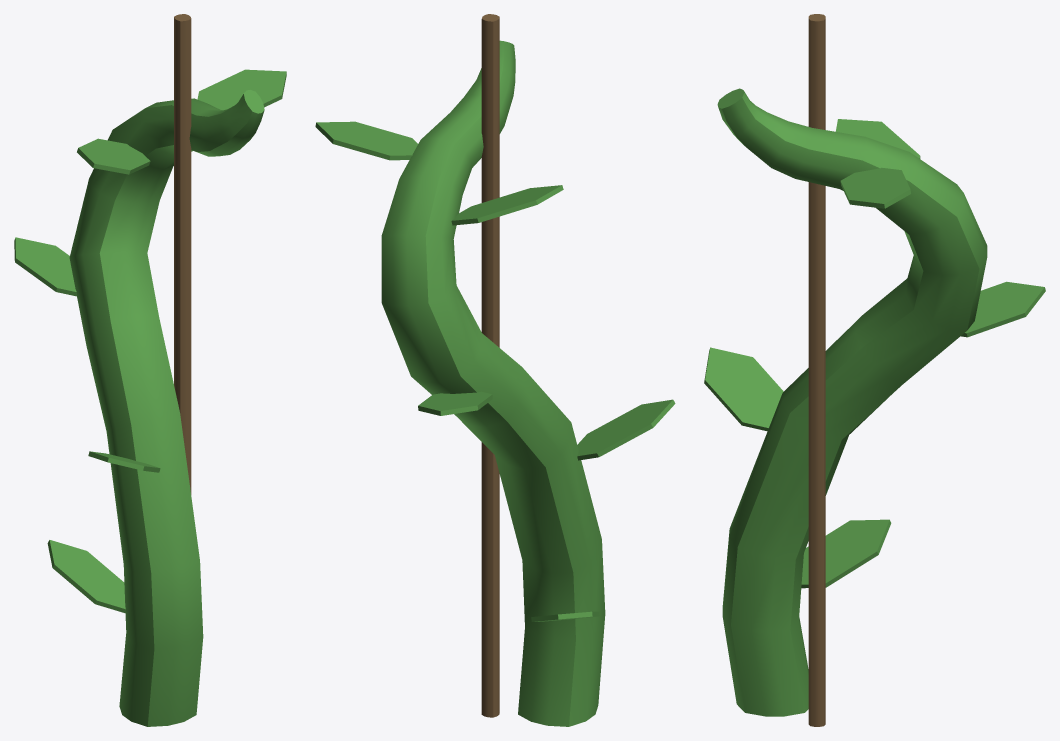
Rendered from HealthySproutModel.fbx.
3 renders of one model, left to right at view 1: azimuth 30°, elevation 25°; view 2: azimuth 150°, elevation 25°; view 3: azimuth 270°, elevation 25°, orthographic. The views are drawn at different scales.
Visible parts, largest first — view 1: HealthySprout; view 2: HealthySprout; view 3: HealthySprout.
Part boxes in pixels (left/top/right/bottom): HealthySprout: left=14, top=14, right=286, bottom=726; HealthySprout: left=315, top=14, right=675, bottom=726; HealthySprout: left=704, top=14, right=1045, bottom=726.
Bounding box in the file's own units: 1.19 × 2.88 × 1.27.
